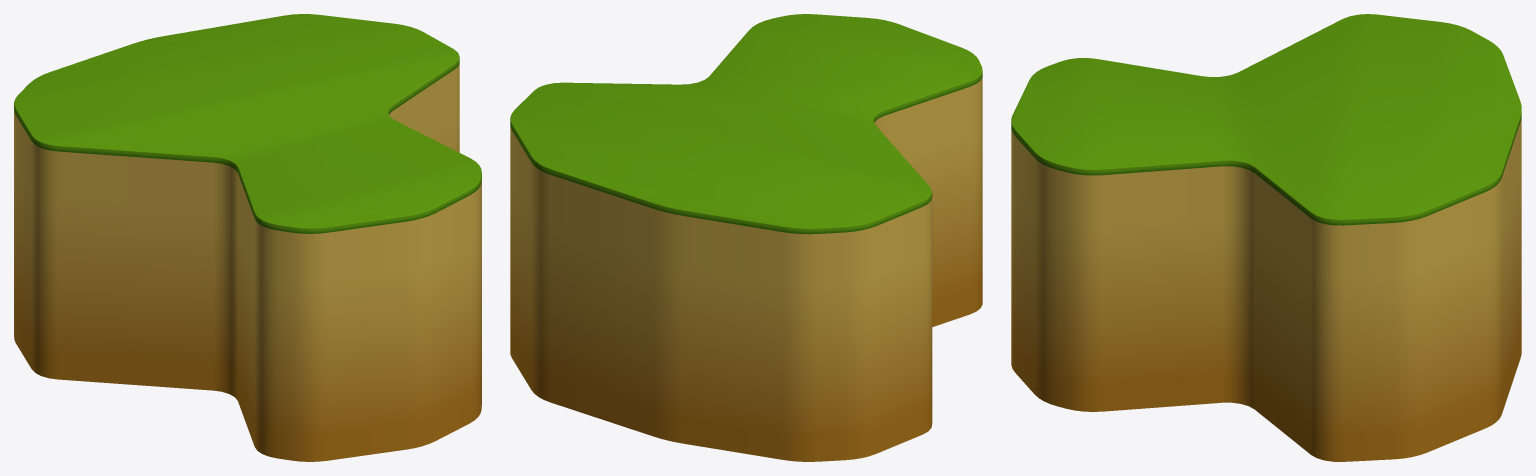
Rendered from LM100NAT07.fbx.
The picture shows the model from 3 angles, left to right: view 1: azimuth 30°, elevation 25°; view 2: azimuth 150°, elevation 25°; view 3: azimuth 270°, elevation 25°; orthographic projection. The views are drawn at different scales.
Visible parts, largest first — view 1: LOD0; view 2: LOD0; view 3: LOD0.
Part boxes in pixels (bbox=[...]): LOD0: bbox=[14, 14, 481, 461]; LOD0: bbox=[510, 14, 982, 461]; LOD0: bbox=[1011, 14, 1521, 461].
Size of what is drawn, in the model's own units: 9093 by 9539 by 5000.
